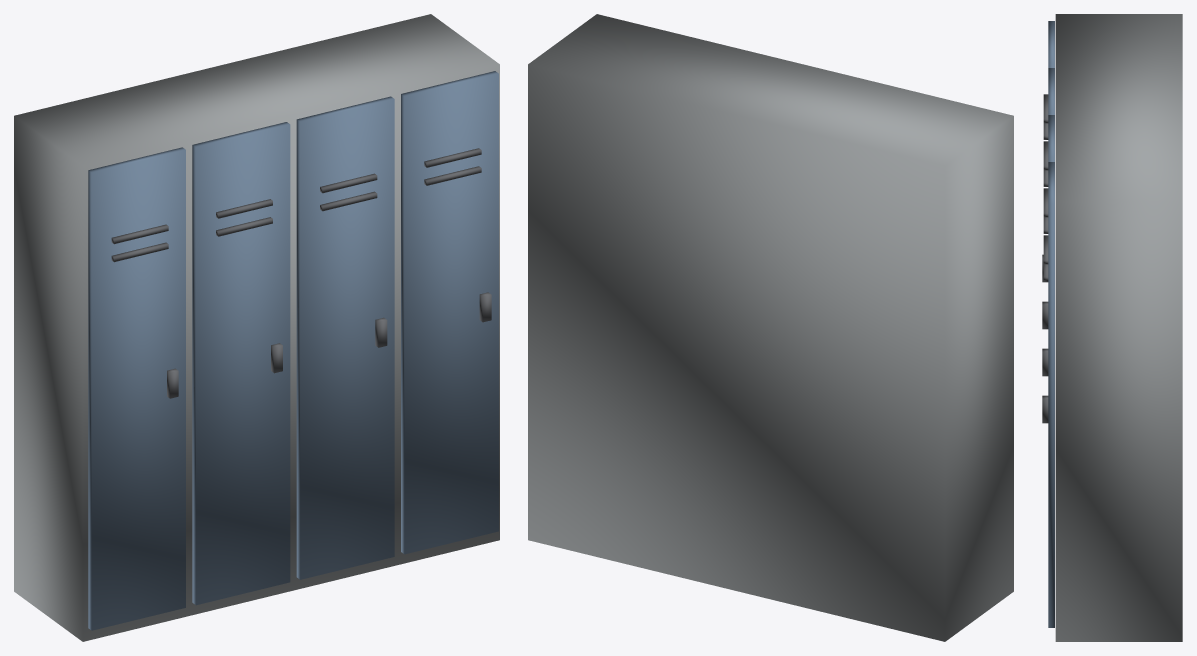
Rendered from evidence_locker__reinforced.glb.
3 renders of one model, left to right at view 1: azimuth 30°, elevation 25°; view 2: azimuth 150°, elevation 25°; view 3: azimuth 270°, elevation 25°, orthographic. The views are drawn at different scales.
Parts seen in each view (by area): view 1: world; view 2: world; view 3: world.
Part boxes in pixels (box(x1,y1,x2,y2)): world: box(14, 14, 499, 641); world: box(528, 14, 1013, 641); world: box(1042, 14, 1182, 641).
Bounding box in the file's own units: 1.73 × 1.89 × 0.5459.
